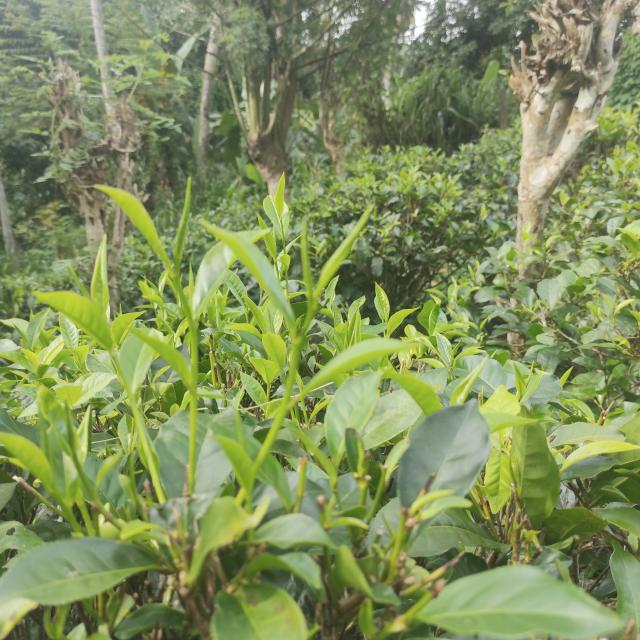unopened_leaf: (314, 195, 382, 302), (290, 208, 325, 314), (166, 166, 198, 276), (62, 260, 102, 309), (8, 316, 34, 350), (523, 357, 541, 384)
